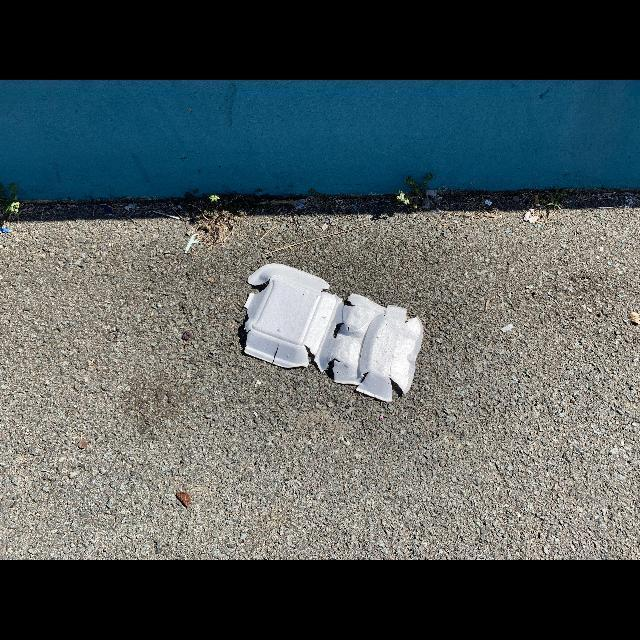Plastic: (244, 264, 423, 402), (146, 210, 180, 220), (186, 234, 198, 252), (502, 323, 512, 332)
